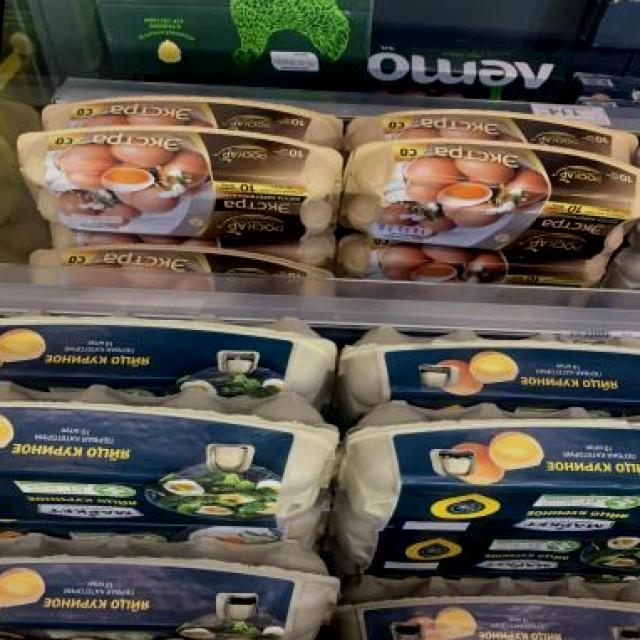egg: (0, 378, 342, 532), (333, 392, 640, 538), (0, 124, 347, 242), (0, 526, 345, 640), (342, 140, 640, 254), (0, 308, 344, 395), (342, 325, 640, 412), (340, 576, 640, 640), (338, 521, 640, 583)
